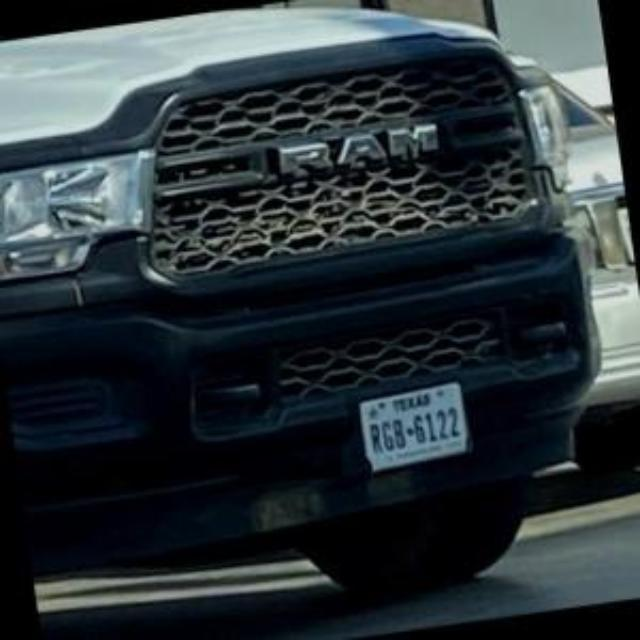License Plate: (357, 380, 472, 476)
